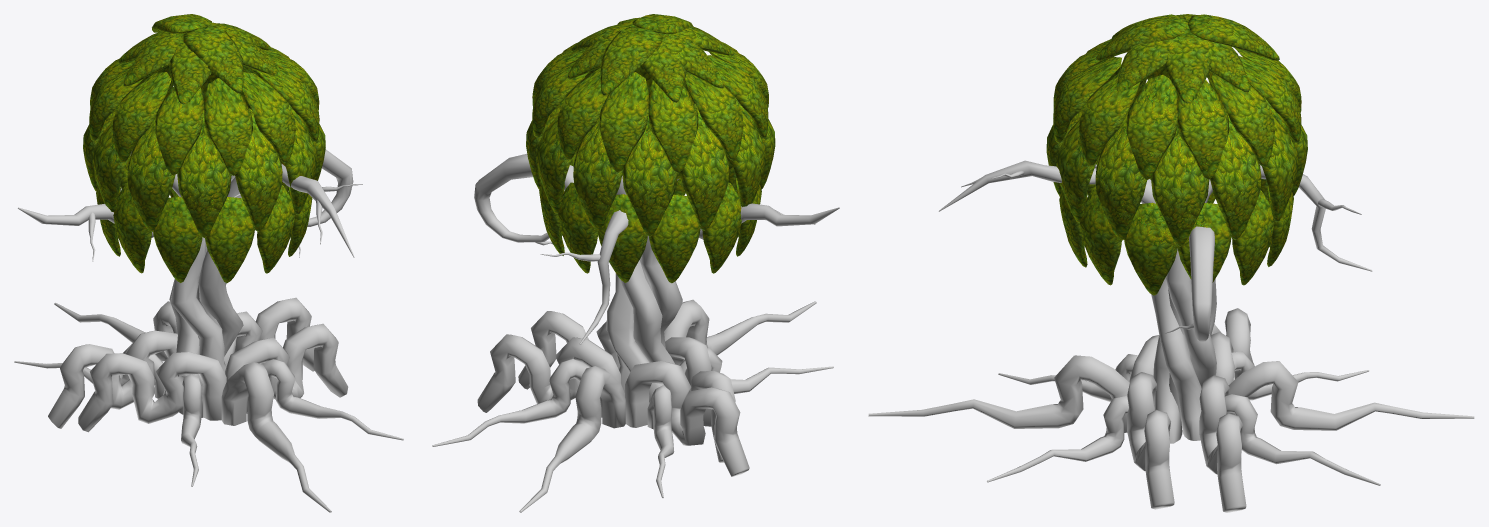
The picture shows the model from 3 angles, left to right: view 1: azimuth 30°, elevation 25°; view 2: azimuth 150°, elevation 25°; view 3: azimuth 270°, elevation 25°; orthographic projection. The views are drawn at different scales.
Parts seen in each view (by area): view 1: polySurface49, Branch40; view 2: polySurface49, Branch40; view 3: polySurface49, Branch40.
Part boxes in pixels (x1=…): polySurface49: x1=83, y1=14, x2=325, y2=282; Branch40: x1=14, y1=149, x2=403, y2=512; polySurface49: x1=526, y1=14, x2=775, y2=283; Branch40: x1=432, y1=153, x2=839, y2=512; polySurface49: x1=1046, y1=14, x2=1307, y2=295; Branch40: x1=868, y1=160, x2=1474, y2=512.
Bounding box in the file's own units: 547 × 594 × 775.
